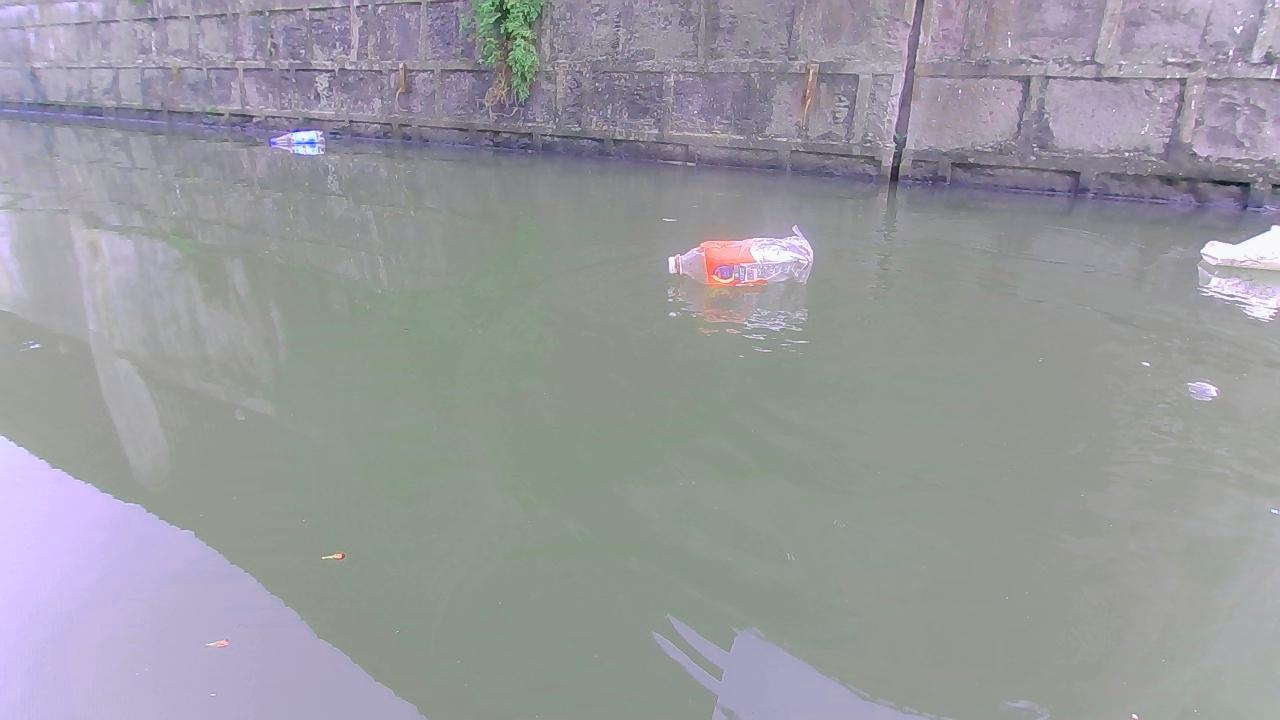Plastic: (665, 232, 816, 288), (1198, 223, 1280, 272), (269, 128, 326, 146)
